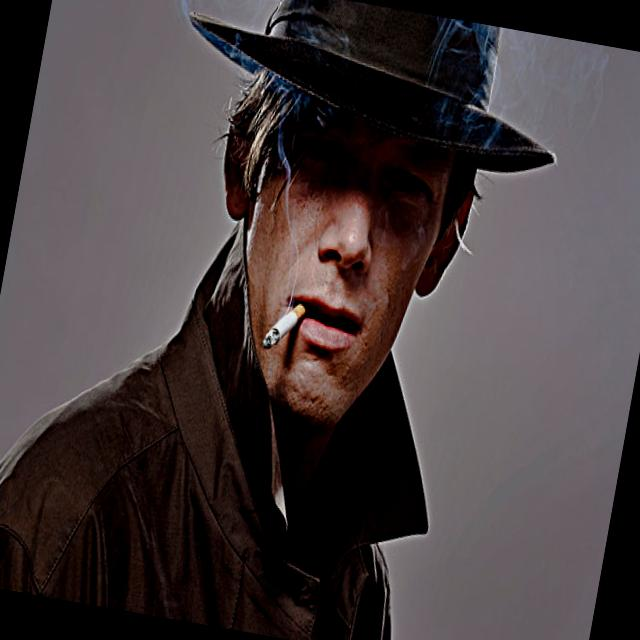smoke: (260, 297, 304, 357)
